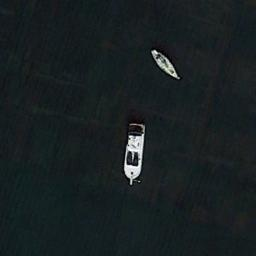boat: (123, 121, 145, 186), (149, 48, 180, 80)
